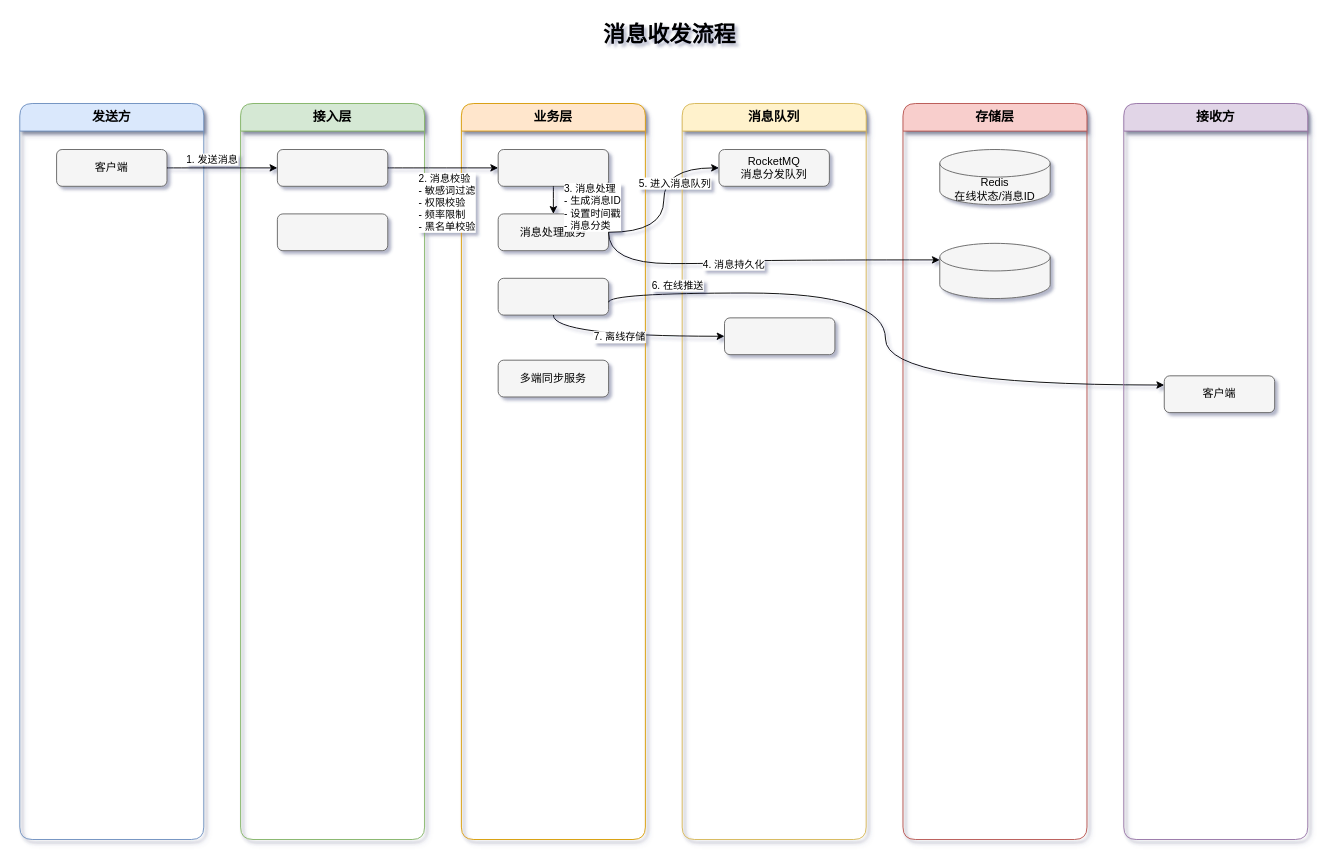
Some shapes in this 1335 by 868 pixel diagram are drawn without their labels. The shapes that lost their labels are listed below. From the top down, each one's centre as x and y in pixels, then its label:
point 332,167: WebSocket网关 (长连接管理)
point 553,167: 消息校验服务
point 332,232: 会话管理器 (在线状态)
point 994,270: MySQL 关系数据
point 553,296: 消息分发服务
point 779,336: 离线消息队列
